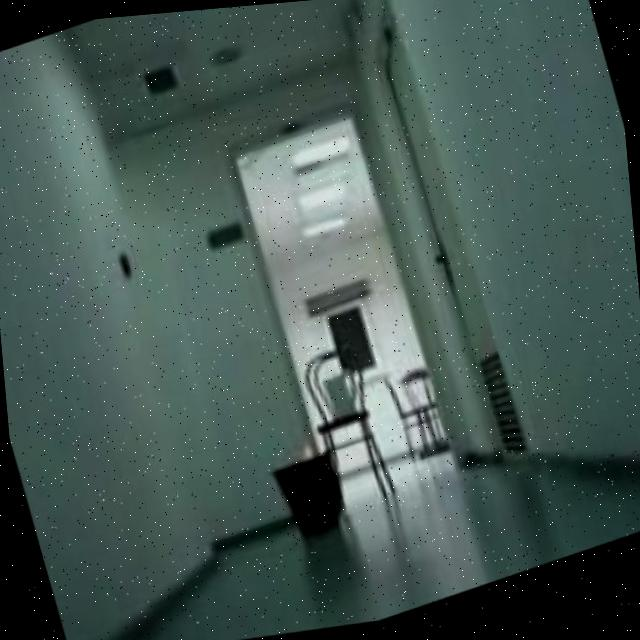fire: (292, 434, 325, 467)
